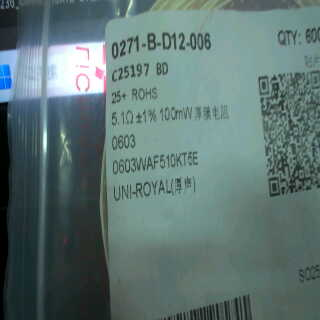5.1R: (110, 108, 134, 128)
